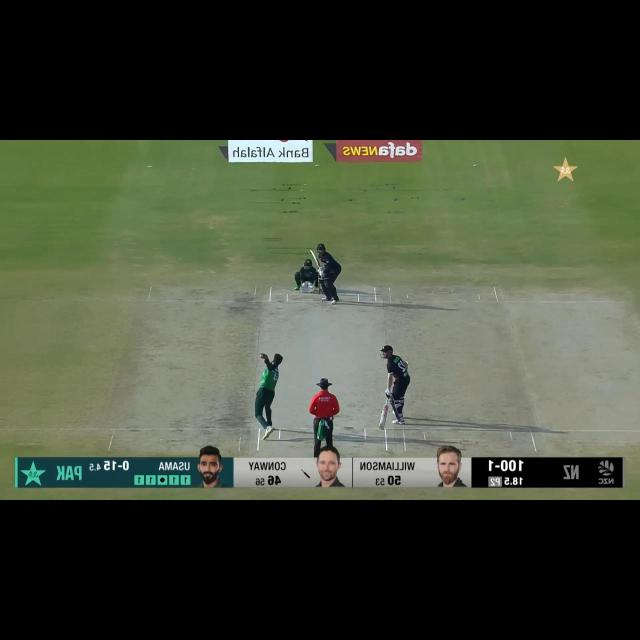bat: (378, 405, 391, 431), (310, 250, 320, 268)
toe: (378, 423, 386, 430), (309, 248, 315, 255)
